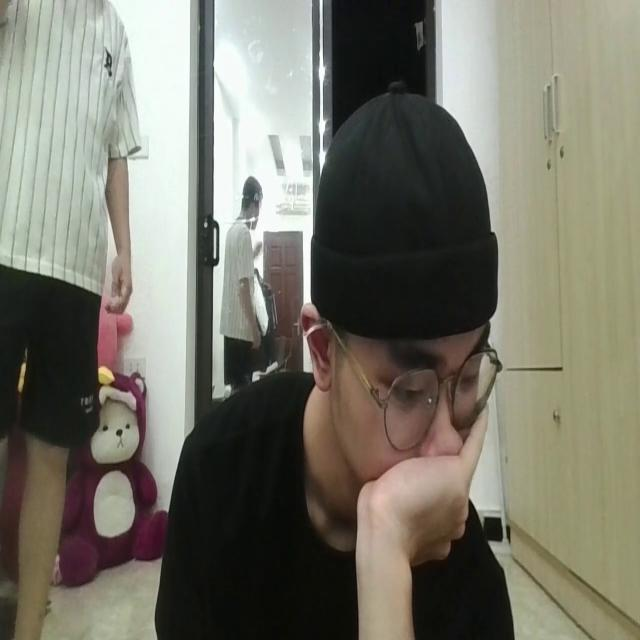extra_person: (0, 0, 141, 640), (218, 162, 264, 403)
student: (162, 88, 521, 640)
